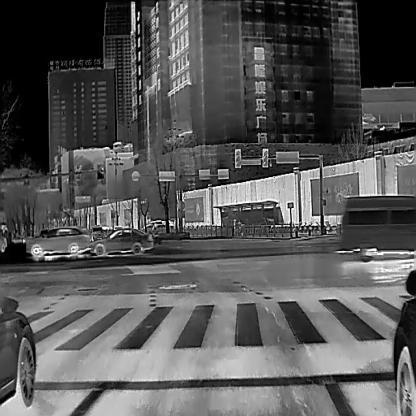car: (337, 195, 415, 263), (0, 294, 36, 410), (24, 227, 92, 257), (91, 226, 153, 255)
